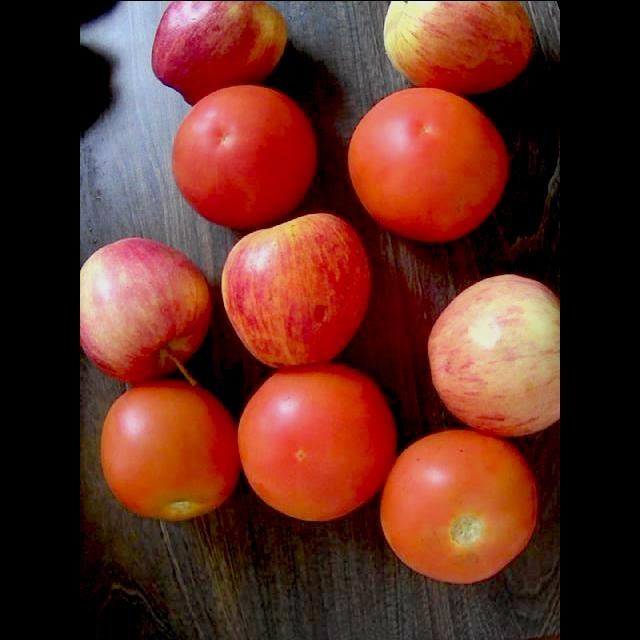manzana: (222, 214, 370, 367), (428, 274, 559, 435), (80, 237, 210, 384), (152, 1, 286, 104), (384, 1, 532, 94)
tomate: (237, 362, 394, 520), (348, 88, 507, 240), (381, 430, 536, 582), (173, 85, 315, 227), (101, 380, 240, 520)
